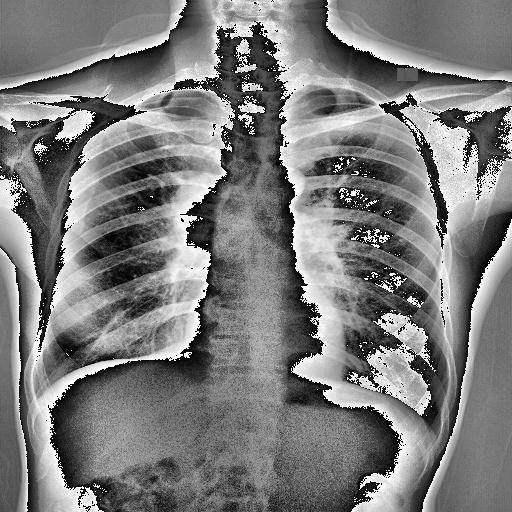7- Lung Opacity: (169, 169, 233, 249), (169, 172, 217, 252)
8- Nodule-Mass: (169, 172, 217, 252), (171, 172, 218, 244)
